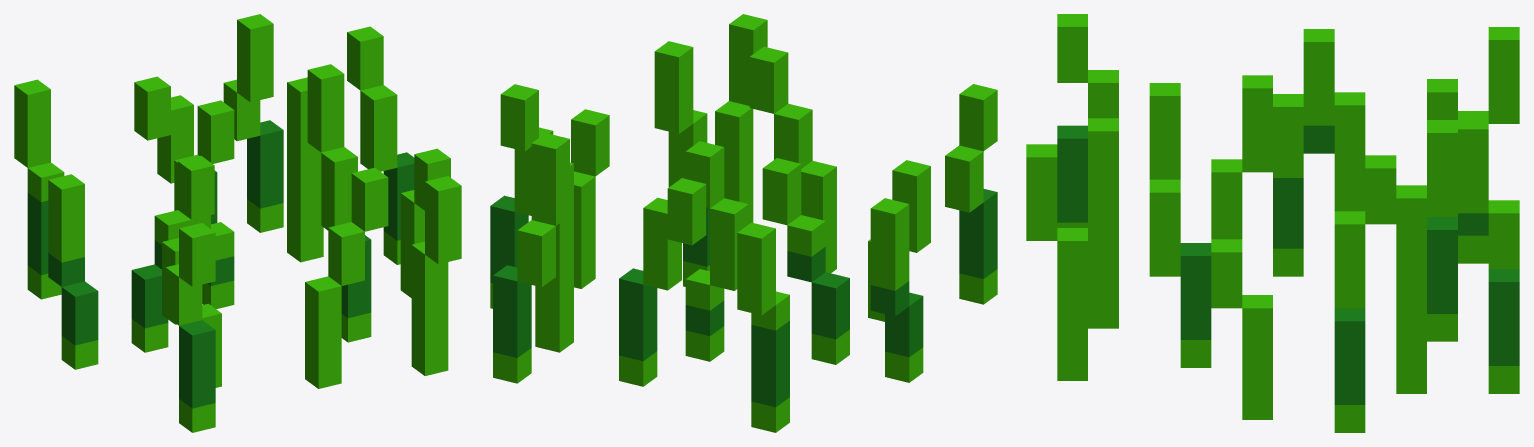
The model's file is grass_1.glb.
The picture shows the model from 3 angles, left to right: view 1: azimuth 30°, elevation 25°; view 2: azimuth 150°, elevation 25°; view 3: azimuth 270°, elevation 25°; orthographic projection. The views are drawn at different scales.
Parts seen in each view (by area): view 1: grass_1; view 2: grass_1; view 3: grass_1.
Part boxes in pixels (x1,y1,x2,y2): grass_1: (14, 14, 461, 432); grass_1: (490, 14, 997, 432); grass_1: (1026, 14, 1519, 432).
Size of the model in its own units: 1.6 by 1 by 1.6.
1 material, 1 textured.
